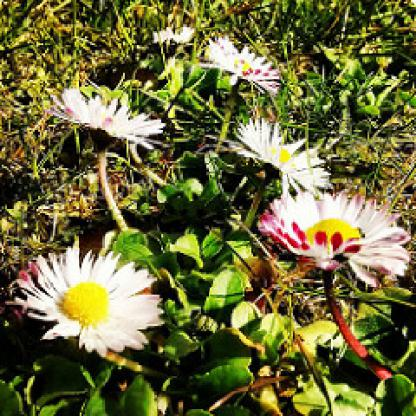ASTER: (6, 20, 412, 393)
